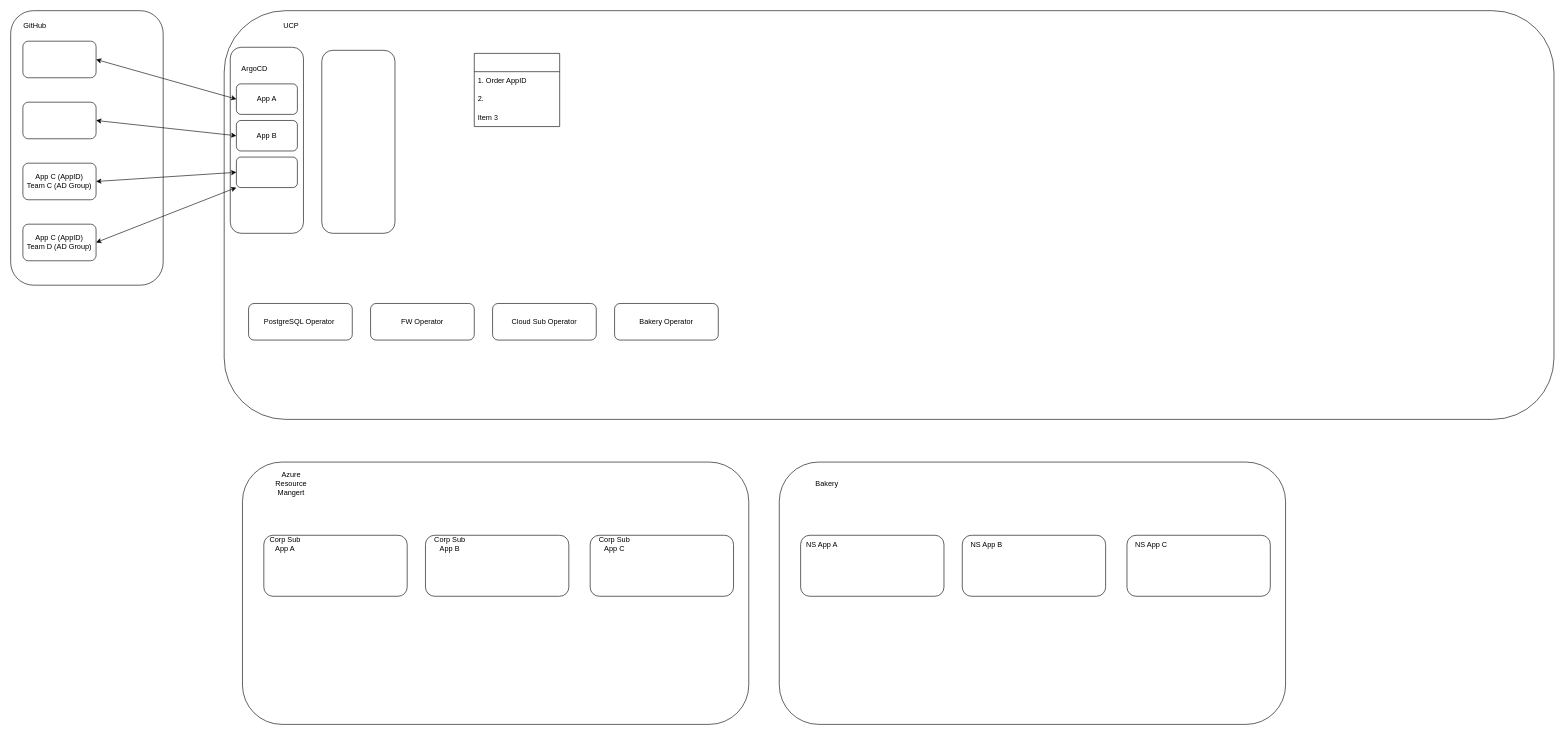
The diagram is 1565 pixels wide and 735 high, and some of its shapes have lost their labels. The shapes that lost their labels are listed below. From the top down, each one's box as (x1, y1, x2, y2) in pixels, then its label:
(22, 41, 96, 78): App A (AppID) Team A (AD Group)
(474, 53, 560, 127): List
(22, 102, 96, 139): App B (AppID) Team B (AD Group)
(321, 50, 395, 233): API
(236, 156, 297, 188): App C
